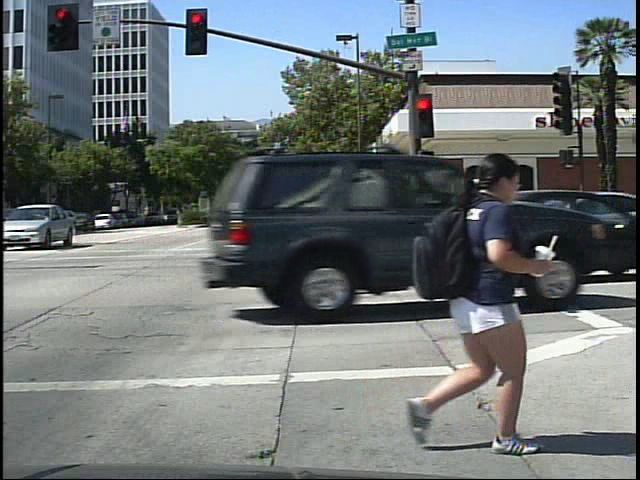person: (382, 130, 560, 458)
